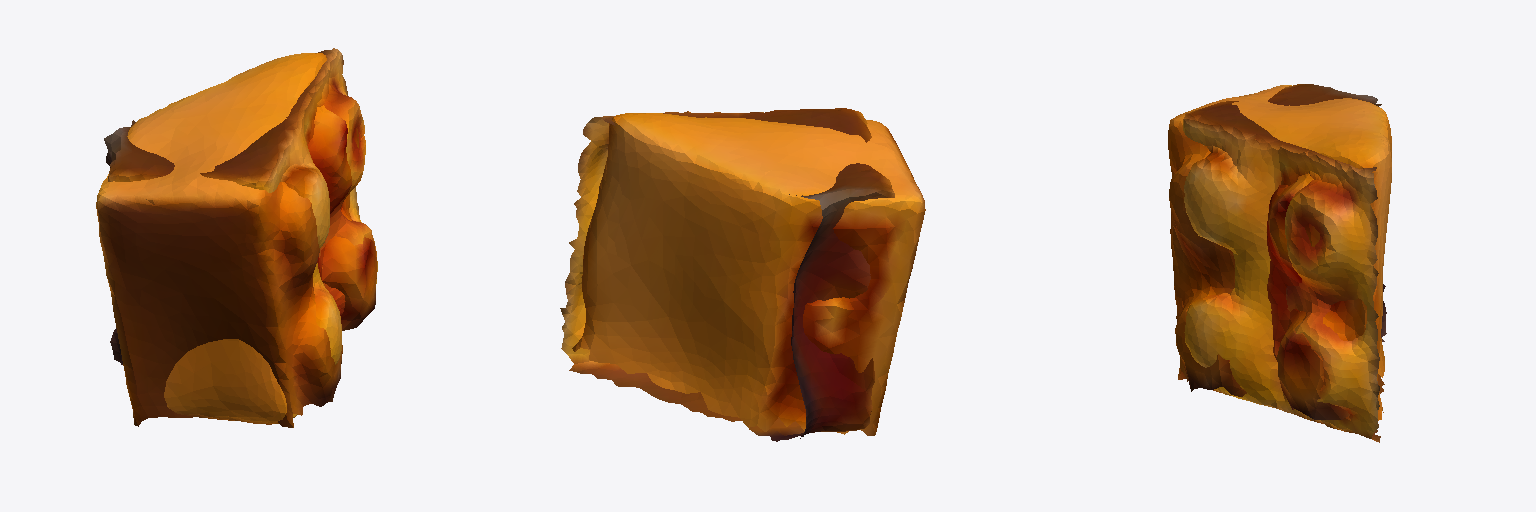
3 renders of one model, left to right at view 1: azimuth 30°, elevation 25°; view 2: azimuth 150°, elevation 25°; view 3: azimuth 270°, elevation 25°, orthographic.
Size of the model in its own units: 0.02 by 0.0178 by 0.0124.
1 materials, 1 textured.